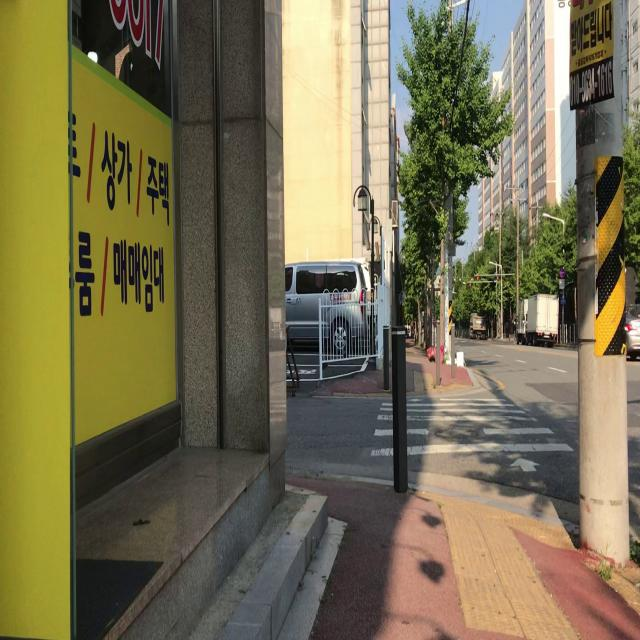횡단보도: (369, 396, 576, 474)
